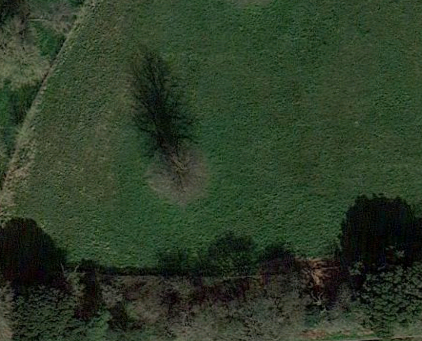tree: (328, 233, 422, 340), (143, 133, 222, 217), (1, 267, 76, 341)
